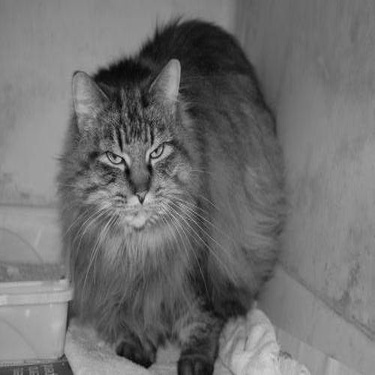cat: (52, 15, 289, 371)
